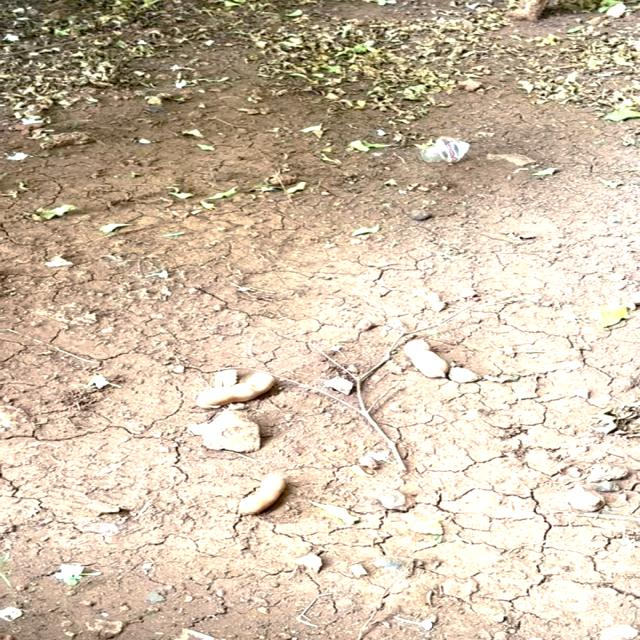tamarind: (197, 368, 278, 408), (236, 472, 292, 518), (406, 337, 451, 380)
